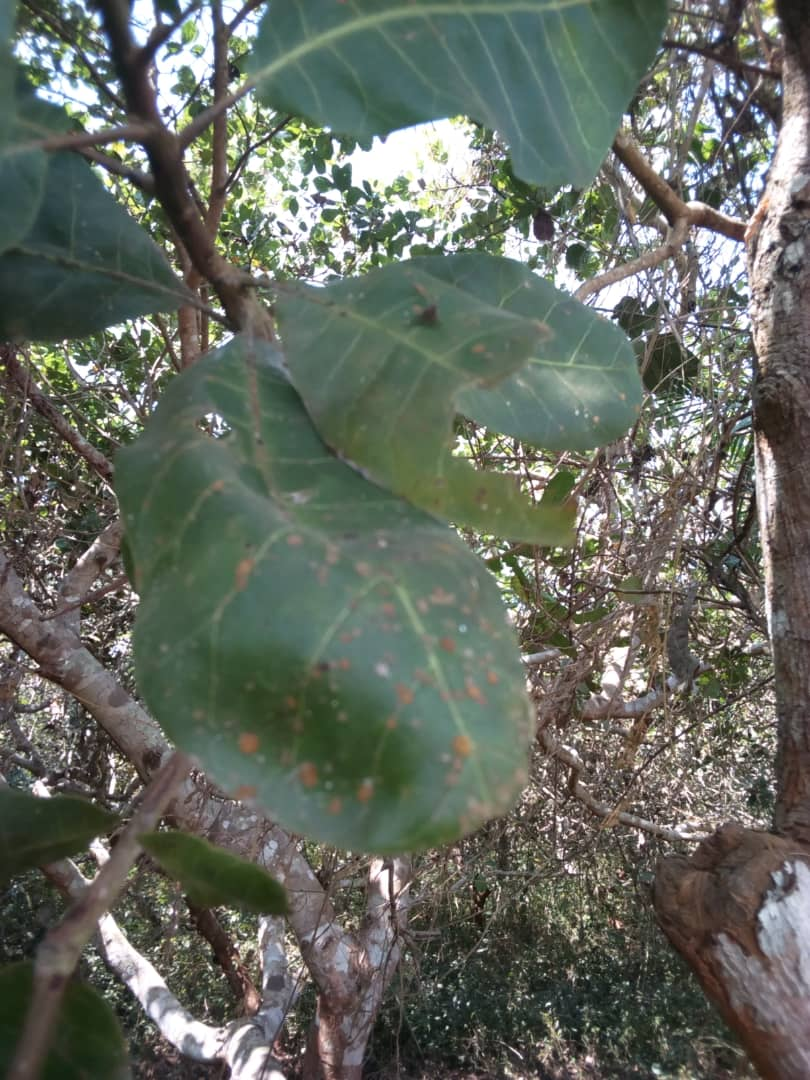Rouille: (98, 340, 546, 854)
